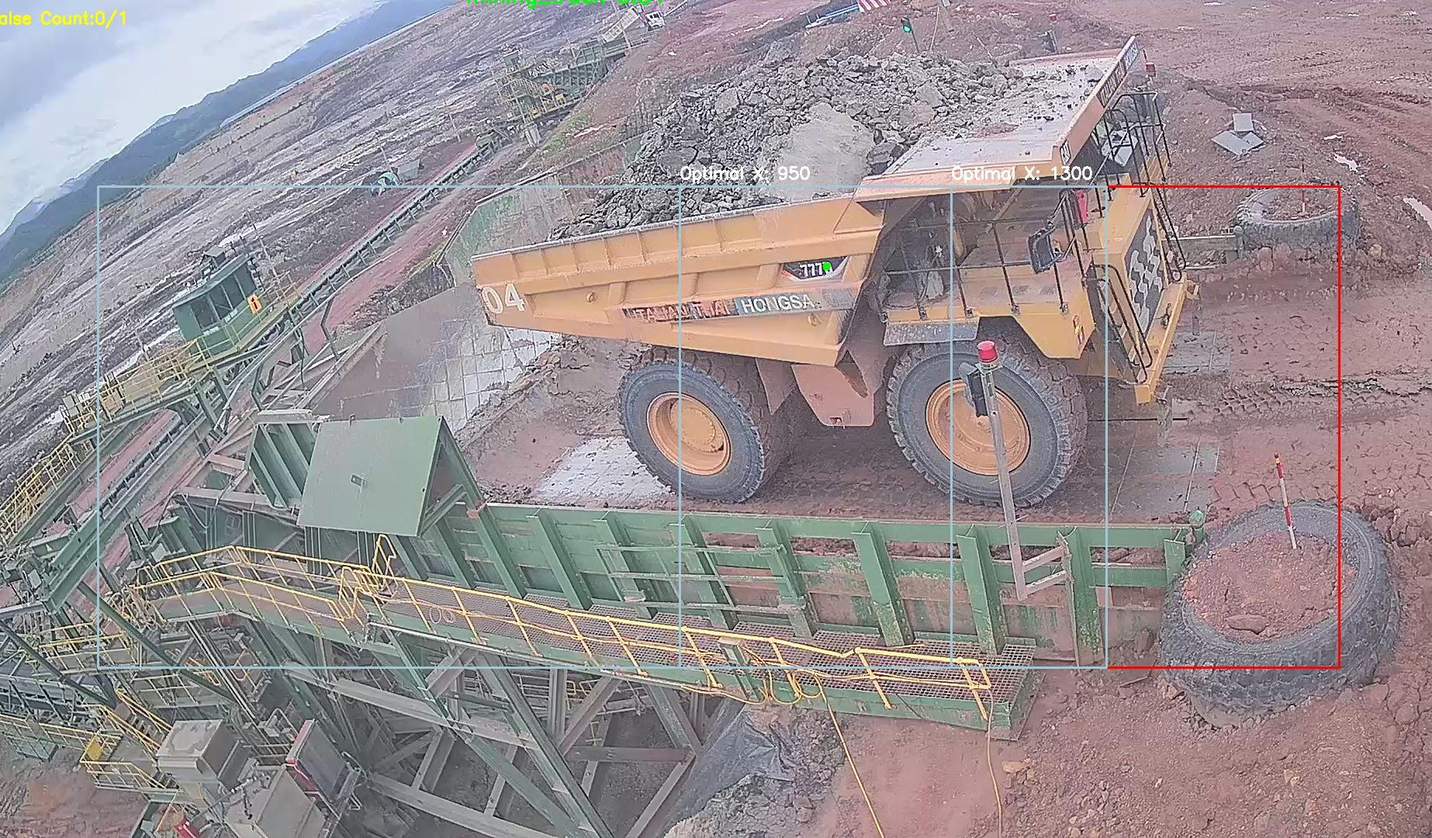company: (610, 283, 838, 336)
full_load: (627, 34, 939, 224)
mining_truck: (458, 22, 1225, 514)
tail_number: (477, 270, 534, 326)
truck_size: (774, 249, 846, 284)
